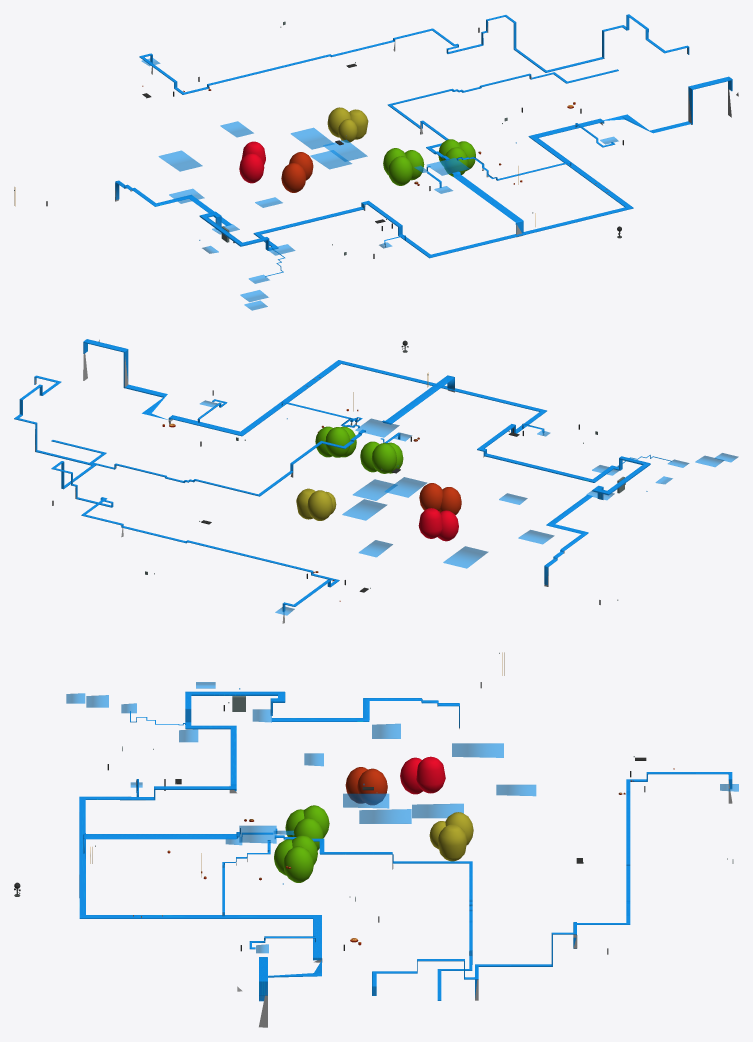
File: Level2LowCombined.fbx
3 views of the same model, one above another, from view 1: azimuth 30°, elevation 25°; view 2: azimuth 150°, elevation 25°; view 3: azimuth 270°, elevation 25° (orthographic). The views are drawn at different scales.
Visible parts, largest first — view 1: River46, River56, Hill2, Hill6, River55, Hill12, Hill10, River45, River, WaterStill27, Hill4, WaterStill29 (+1 smaller); view 2: River46, River56, Hill2, River55, Hill10, Hill6, Hill12, River, River45, Hill3, WaterStill26, WaterStill27 (+3 smaller); view 3: River46, River56, Hill6, Hill10, River55, Hill12, Hill2, River45, Hill5, River, WaterStill29, WaterStill26 (+3 smaller).
Part boxes in pixels (bbox=[...]): River46: bbox=[199, 76, 732, 258]; River56: bbox=[139, 14, 689, 94]; Hill2: bbox=[383, 148, 424, 185]; Hill6: bbox=[327, 107, 368, 142]; River55: bbox=[387, 69, 618, 160]; Hill12: bbox=[281, 152, 313, 192]; Hill10: bbox=[239, 141, 265, 183]; River45: bbox=[452, 171, 523, 233]; River: bbox=[115, 180, 231, 225]; WaterStill27: bbox=[291, 127, 333, 149]; Hill4: bbox=[443, 147, 468, 176]; WaterStill29: bbox=[323, 140, 367, 161]; River46: bbox=[83, 339, 650, 499]; River56: bbox=[14, 375, 339, 611]; Hill2: bbox=[360, 441, 403, 473]; River55: bbox=[51, 429, 365, 496]; Hill10: bbox=[418, 508, 458, 541]; Hill6: bbox=[296, 488, 336, 520]; Hill12: bbox=[419, 483, 461, 514]; River: bbox=[544, 494, 592, 585]; River45: bbox=[382, 375, 454, 424]; Hill3: bbox=[325, 427, 350, 457]; WaterStill26: bbox=[443, 546, 487, 568]; WaterStill27: bbox=[342, 499, 386, 520]; River46: bbox=[79, 691, 321, 1001]; River56: bbox=[372, 772, 732, 997]; Hill6: bbox=[429, 812, 473, 861]; Hill10: bbox=[400, 756, 445, 794]; River55: bbox=[274, 835, 472, 1000]; Hill12: bbox=[345, 767, 387, 804]; Hill2: bbox=[285, 805, 329, 850]; River45: bbox=[83, 832, 239, 853]; Hill5: bbox=[283, 846, 313, 882]; River: bbox=[271, 698, 459, 727]; WaterStill29: bbox=[359, 809, 411, 823]; WaterStill26: bbox=[452, 743, 503, 757].
Bounding box in the file's own units: 753 × 69.22 × 625.
